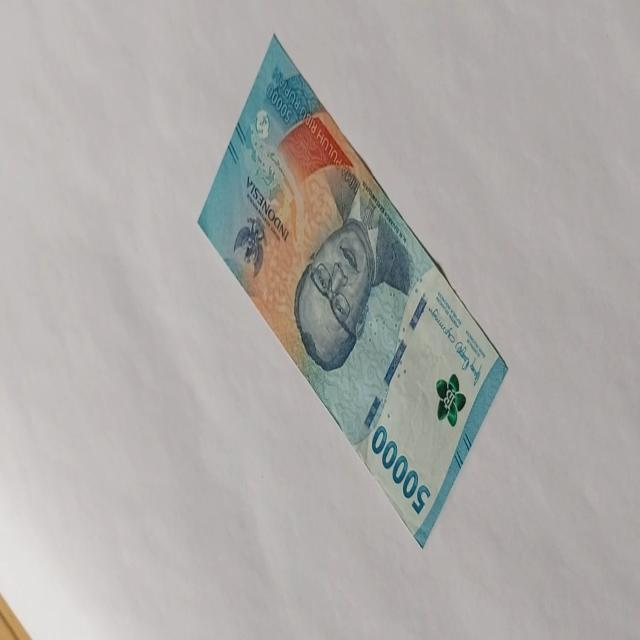lima puluh ribu rupiah: (196, 31, 508, 549), (370, 423, 432, 516)
